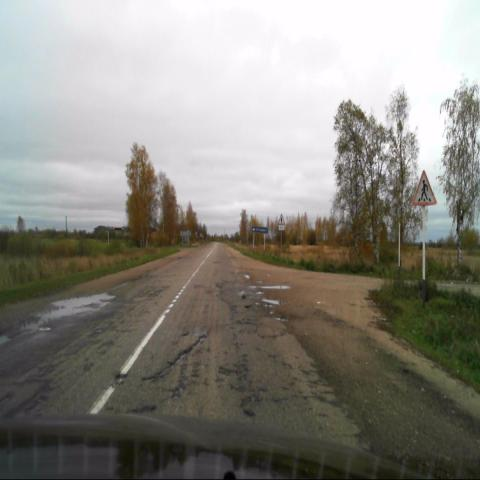1_22: (414, 170, 436, 207)
